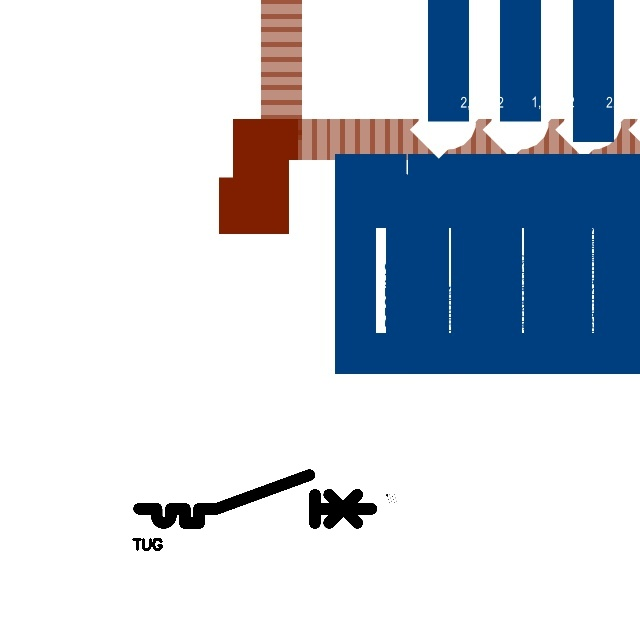interruptor_termomagnetico: (133, 469, 377, 529)
